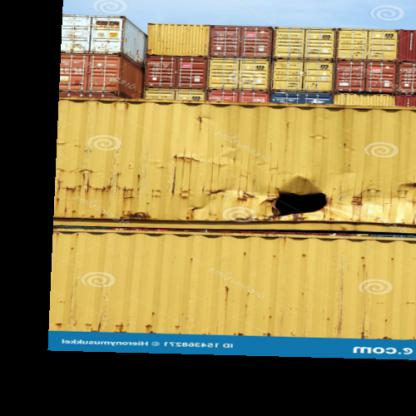Damage: (57, 153, 244, 220), (247, 174, 339, 220)
